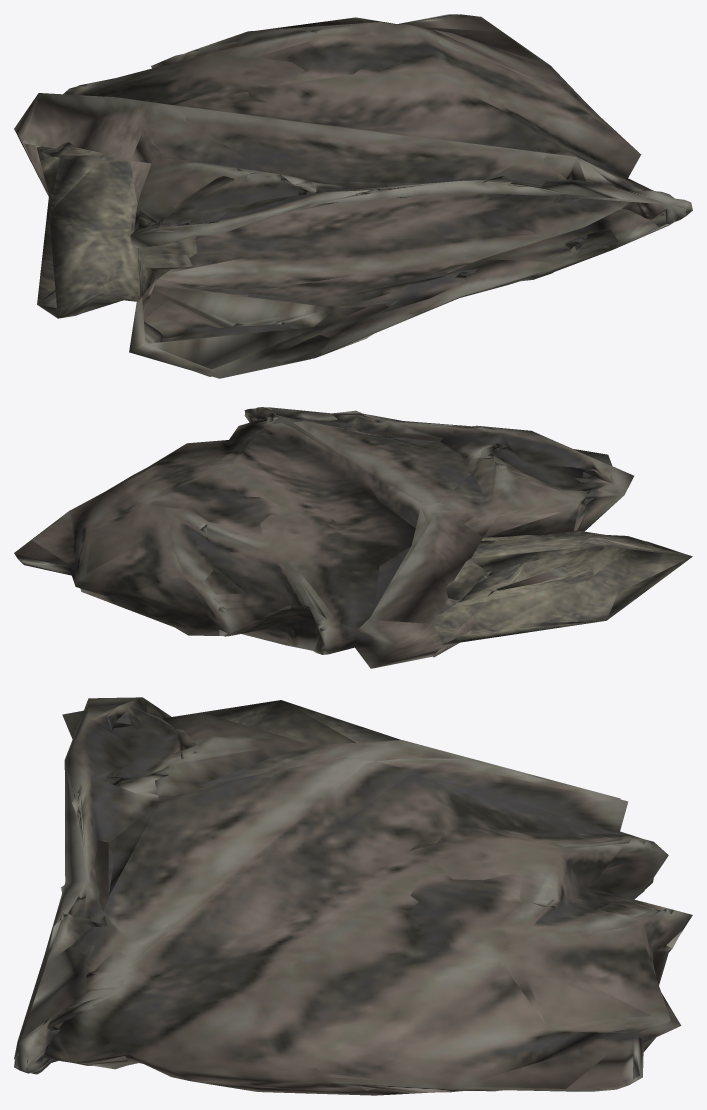
The model's file is CazadorHood_Ground.fbx.
3 renders of one model, top to bottom at view 1: azimuth 30°, elevation 25°; view 2: azimuth 150°, elevation 25°; view 3: azimuth 270°, elevation 25°, orthographic. The views are drawn at different scales.
Visible parts, largest first — view 1: hoodie; view 2: hoodie; view 3: hoodie.
Part boxes in pixels (x1,y1,x2,y2): hoodie: (14, 14, 692, 378); hoodie: (14, 407, 692, 668); hoodie: (14, 697, 692, 1095).
Bounding box in the file's own units: 0.2119 × 0.0568 × 0.1657.
